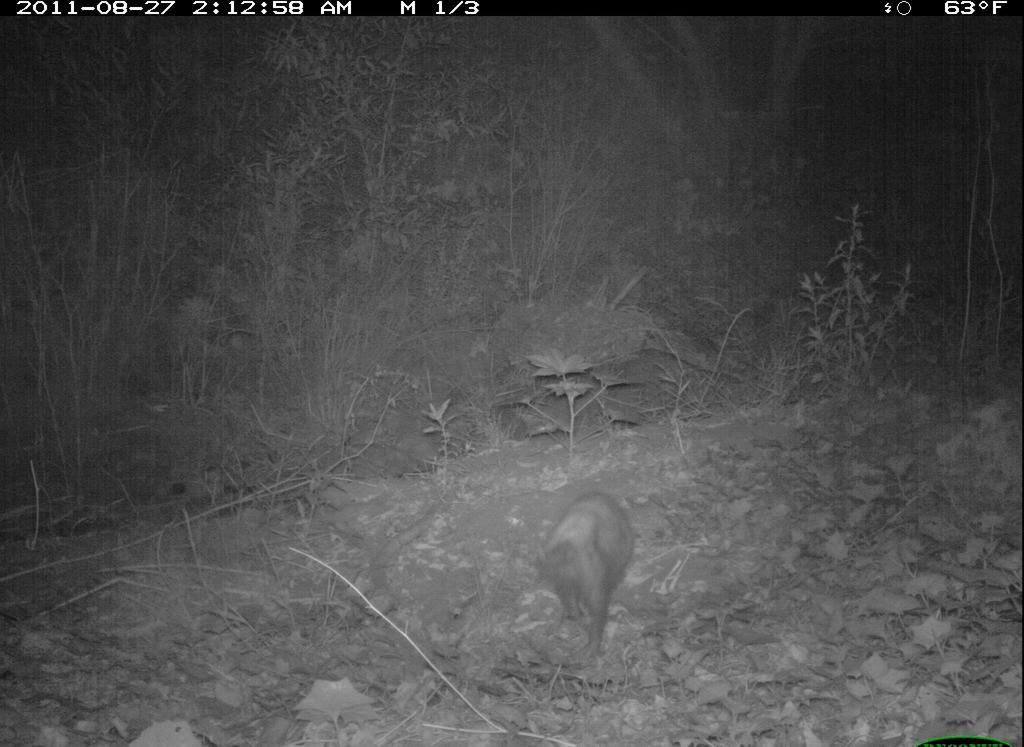opossum: (538, 486, 639, 674)
